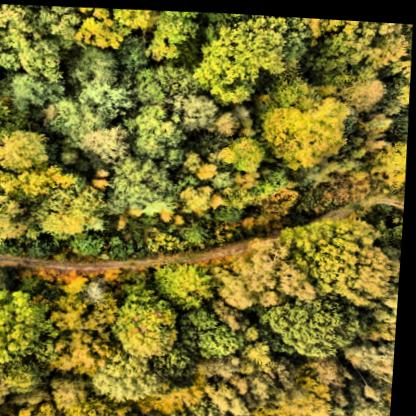tree-top: (258, 88, 352, 170), (255, 288, 360, 357), (191, 22, 266, 102), (278, 211, 366, 278), (231, 231, 303, 303), (0, 2, 75, 69), (0, 291, 62, 365), (101, 155, 180, 213), (114, 293, 182, 359), (298, 31, 372, 90), (37, 171, 102, 237), (261, 365, 339, 416), (155, 255, 222, 311), (188, 302, 248, 360), (81, 5, 152, 52), (59, 43, 126, 91), (94, 349, 160, 397), (51, 327, 119, 373), (331, 370, 397, 416), (346, 245, 397, 303), (208, 367, 271, 413), (0, 124, 56, 175), (132, 104, 181, 160), (59, 291, 120, 333), (146, 7, 198, 56), (1, 64, 54, 112), (146, 348, 205, 391), (42, 98, 105, 134), (137, 64, 190, 104), (264, 69, 314, 111), (346, 338, 399, 377), (77, 77, 134, 113), (5, 352, 56, 392), (159, 378, 210, 412), (66, 392, 136, 416), (0, 197, 34, 244), (85, 122, 128, 159), (174, 90, 220, 124), (225, 136, 269, 170), (113, 34, 151, 73), (170, 396, 244, 416), (184, 124, 230, 156), (369, 199, 407, 237), (372, 135, 409, 174), (51, 372, 92, 407), (16, 392, 67, 416), (257, 157, 291, 189), (298, 181, 332, 209), (175, 215, 210, 241), (75, 229, 105, 256), (217, 197, 248, 222), (213, 108, 243, 133), (0, 368, 14, 416), (0, 263, 23, 288), (195, 157, 222, 178), (211, 168, 234, 187)
